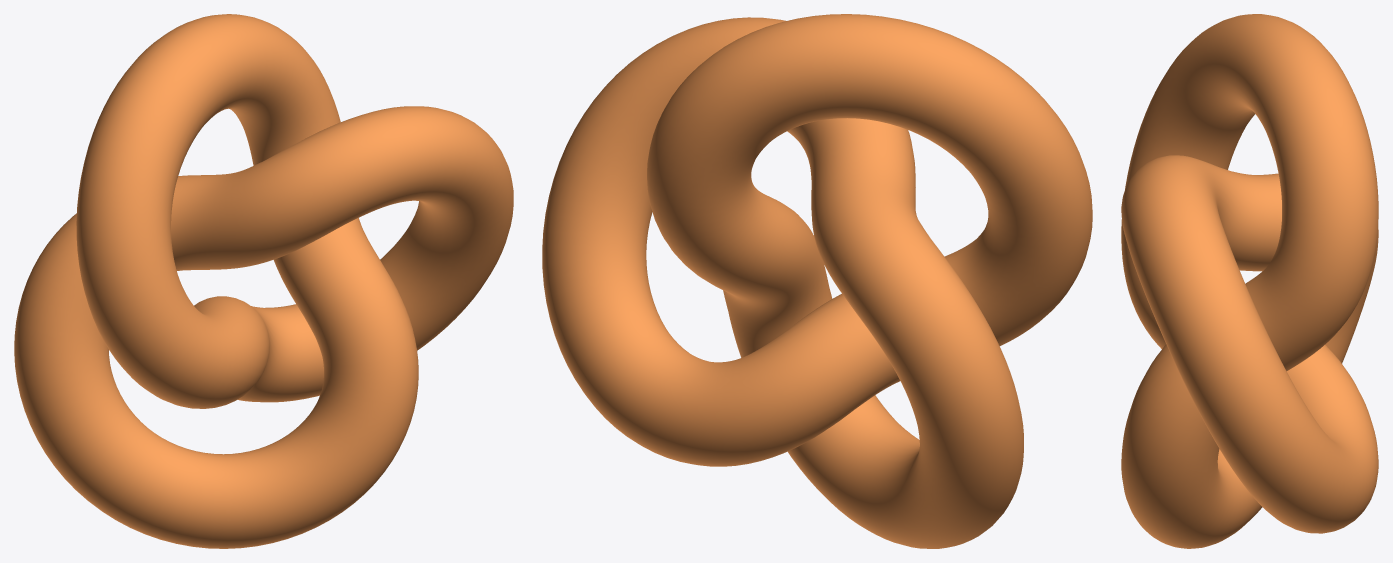
The model's file is knot-meshopt.glb.
3 views of the same model, side by side, from view 1: azimuth 30°, elevation 25°; view 2: azimuth 150°, elevation 25°; view 3: azimuth 270°, elevation 25° (orthographic). The views are drawn at different scales.
Parts seen in each view (by area): view 1: knot; view 2: knot; view 3: knot.
Boxes of the visible parts, x1=… form: knot: x1=14, y1=14, x2=513, y2=548; knot: x1=542, y1=14, x2=1092, y2=548; knot: x1=1121, y1=14, x2=1378, y2=548.
Bounding box in the file's own units: 3.28 × 3.43 × 1.6.
